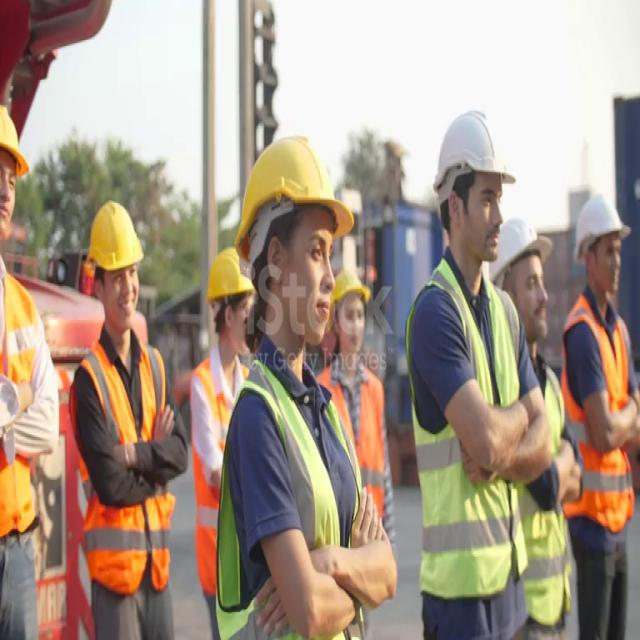capacete: (227, 129, 366, 254), (412, 108, 524, 210), (488, 202, 564, 296), (563, 164, 633, 265), (77, 196, 148, 290), (192, 242, 260, 323), (2, 84, 38, 210), (335, 248, 376, 324)
